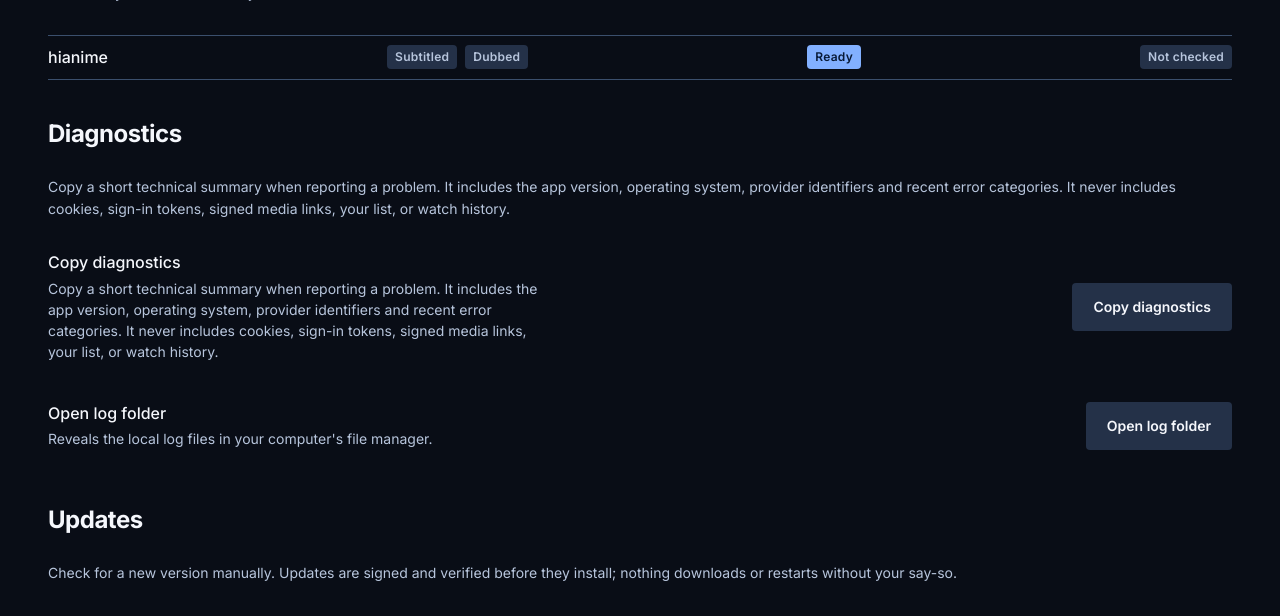
Preferences diagnostics › shows an honest error when the clipboard is unavailable
(page scrolled)
Click the button "Copy diagnostics". click: x=1152, y=307
box: [1072, 283, 1232, 331]
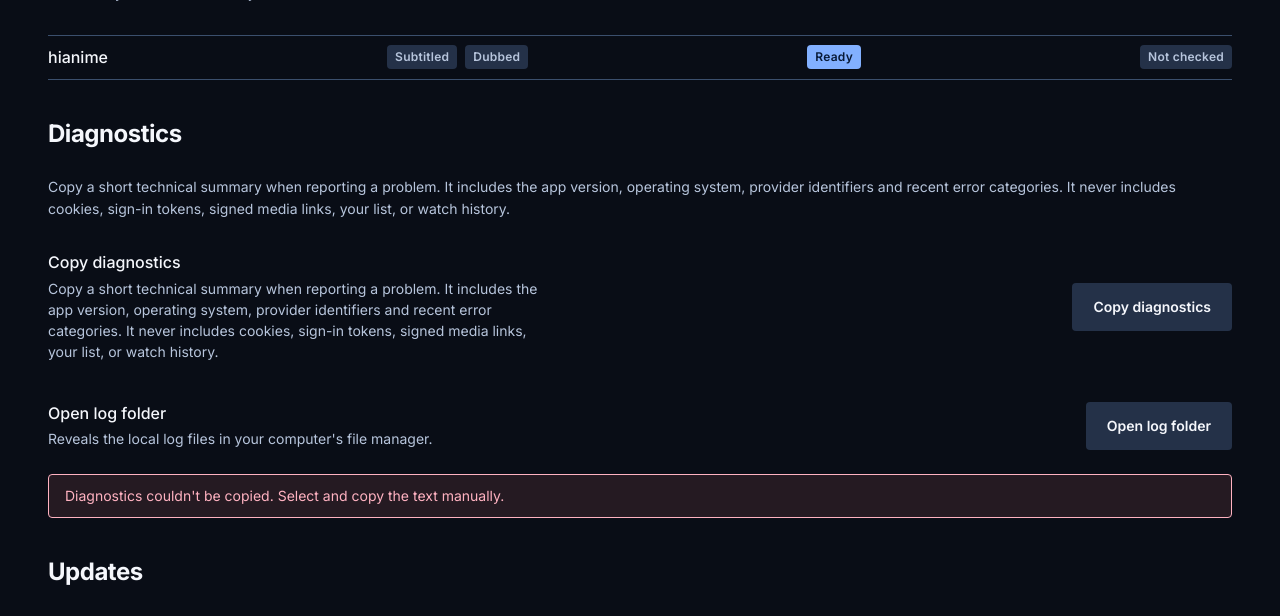
Expected: the text "couldn't be copied" is shown, [65, 487, 504, 504]
